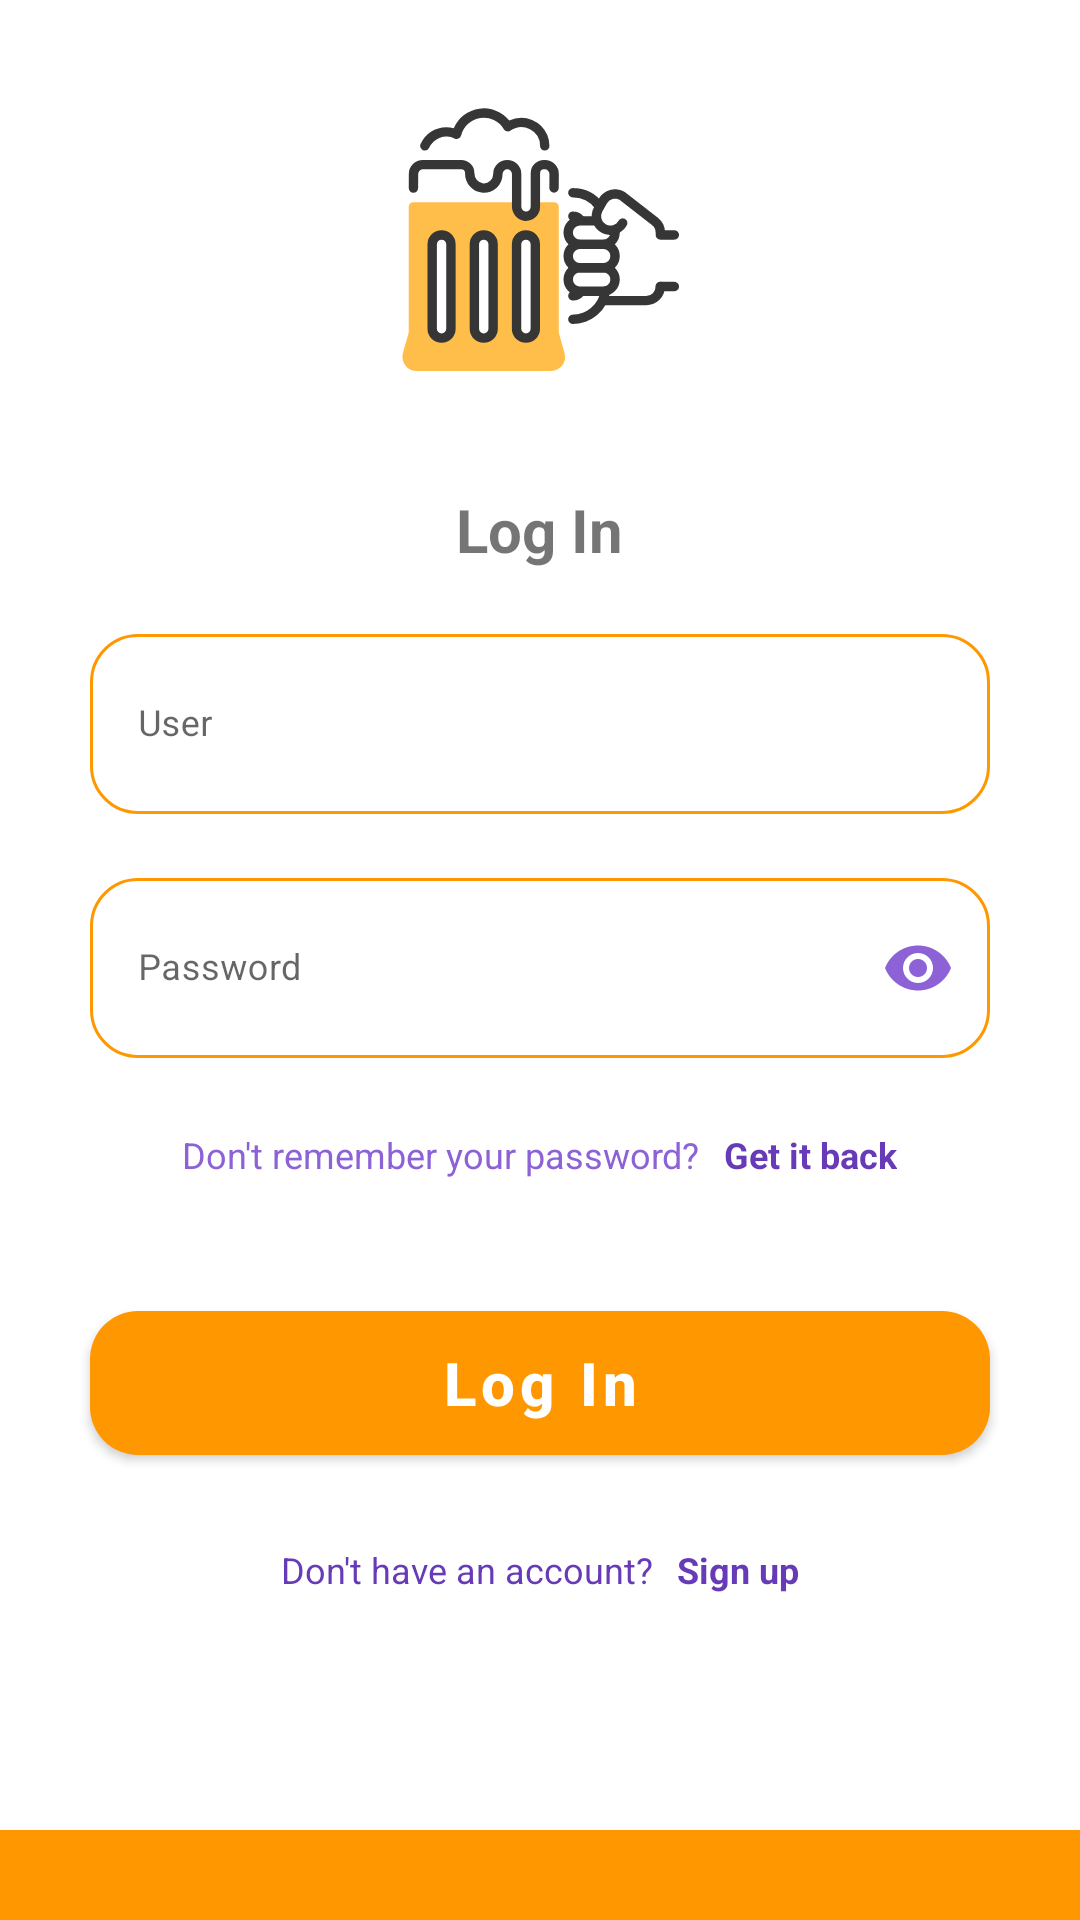

Locate icon controls on the screen. Image size 1080x1920, boxes as (x1, y1, x2, y2).
beer: (402, 108, 679, 371)
